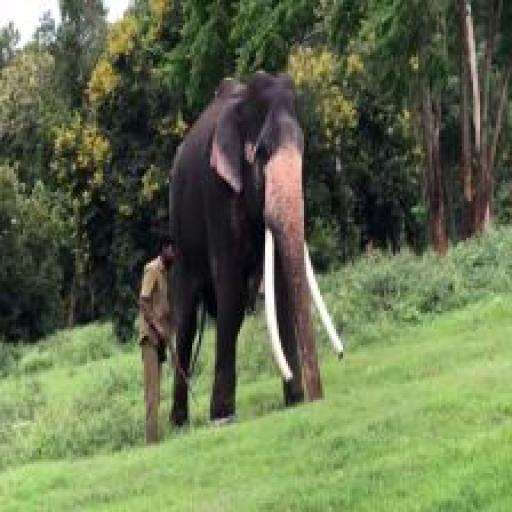Elephant: (167, 60, 329, 457)
